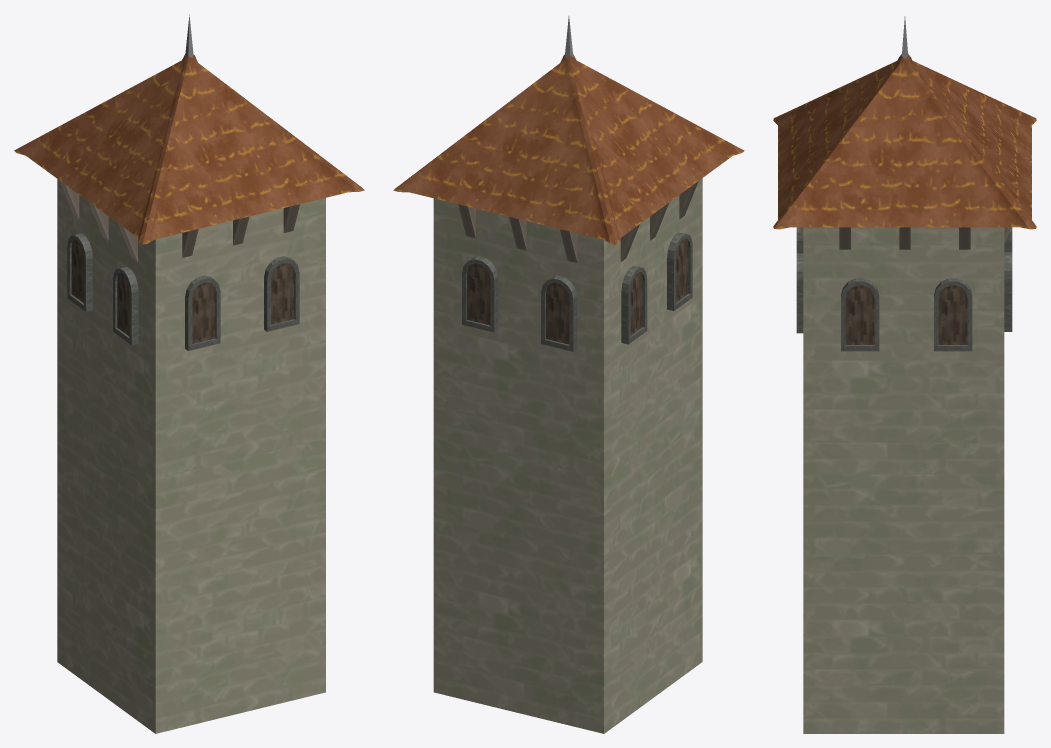
The model's file is SM_Building_002_Tower.fbx.
The picture shows the model from 3 angles, left to right: view 1: azimuth 30°, elevation 25°; view 2: azimuth 150°, elevation 25°; view 3: azimuth 270°, elevation 25°; orthographic projection. The views are drawn at different scales.
Parts seen in each view (by area): view 1: polySurface336; view 2: polySurface336; view 3: polySurface336.
Part boxes in pixels (box(x1,y1,x2,y2)): polySurface336: box(14, 14, 364, 733); polySurface336: box(393, 16, 744, 733); polySurface336: box(773, 16, 1036, 733).
Bounding box in the file's own units: 270 × 764 × 270.
